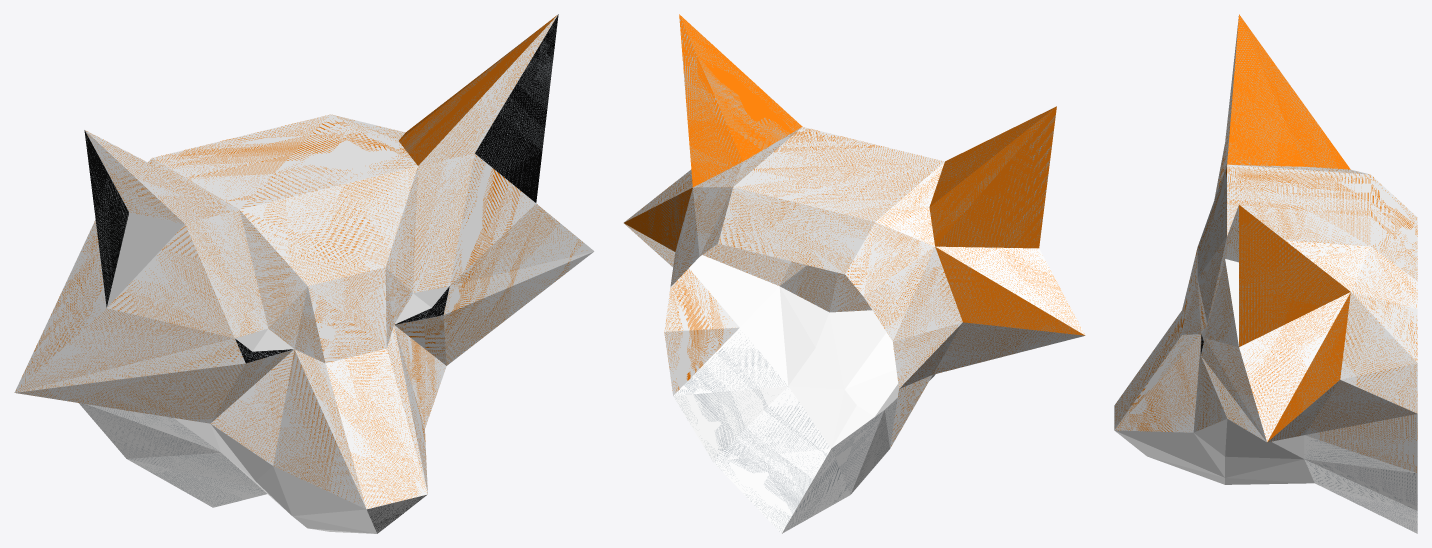
3 renders of one model, left to right at view 1: azimuth 30°, elevation 25°; view 2: azimuth 150°, elevation 25°; view 3: azimuth 270°, elevation 25°, orthographic. The views are drawn at different scales.
Visible parts, largest first — view 1: SketchUp (×10); view 2: SketchUp (×8); view 3: SketchUp (×7).
Part boxes in pixels (<box>): SketchUp (×10): <box>14,14,594,533</box>; SketchUp (×8): <box>624,14,1085,533</box>; SketchUp (×7): <box>1114,14,1417,533</box>.
Bounding box in the file's own units: 190 × 104 × 161.
